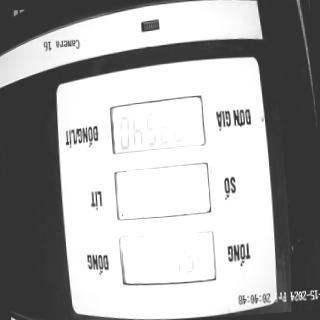screen: (105, 91, 220, 291)
